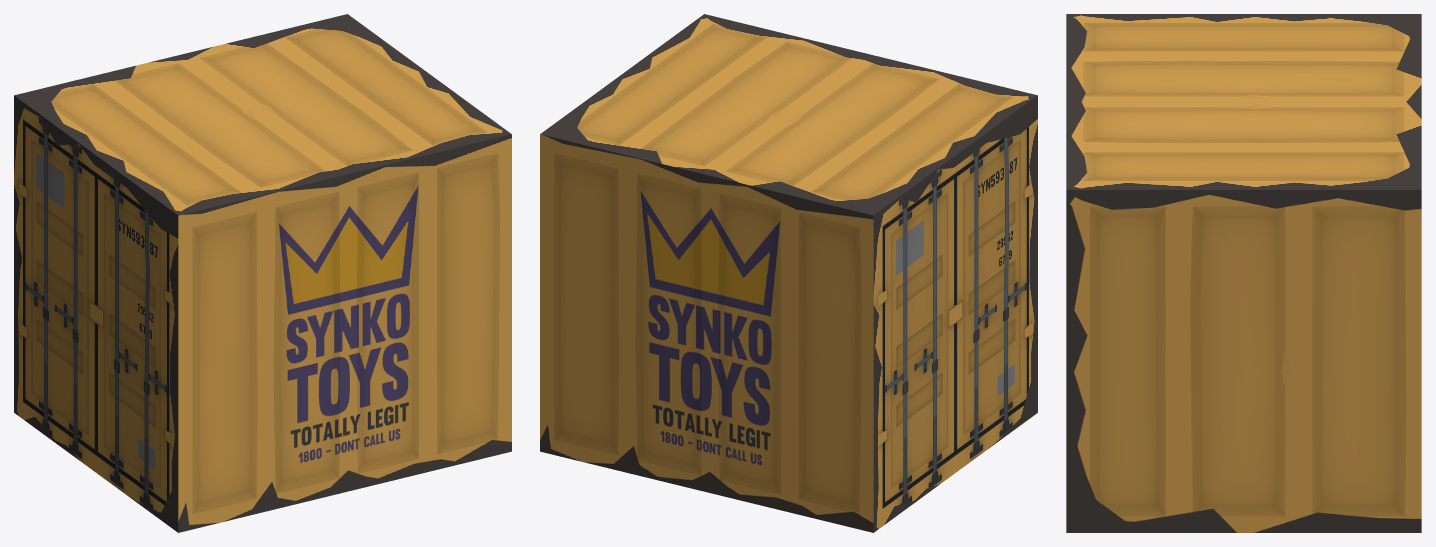
Rendered from SM_Prop_Container_Small_01.fbx.
The picture shows the model from 3 angles, left to right: view 1: azimuth 30°, elevation 25°; view 2: azimuth 150°, elevation 25°; view 3: azimuth 270°, elevation 25°; orthographic projection. The views are drawn at different scales.
Visible parts, largest first — view 1: SM_Prop_Container_Small_01; view 2: SM_Prop_Container_Small_01; view 3: SM_Prop_Container_Small_01.
Part boxes in pixels (x1,y1,x2,y2): SM_Prop_Container_Small_01: (14, 14, 511, 532); SM_Prop_Container_Small_01: (540, 14, 1037, 532); SM_Prop_Container_Small_01: (1066, 14, 1421, 532).
Bounding box in the file's own units: 285 × 259 × 243.
